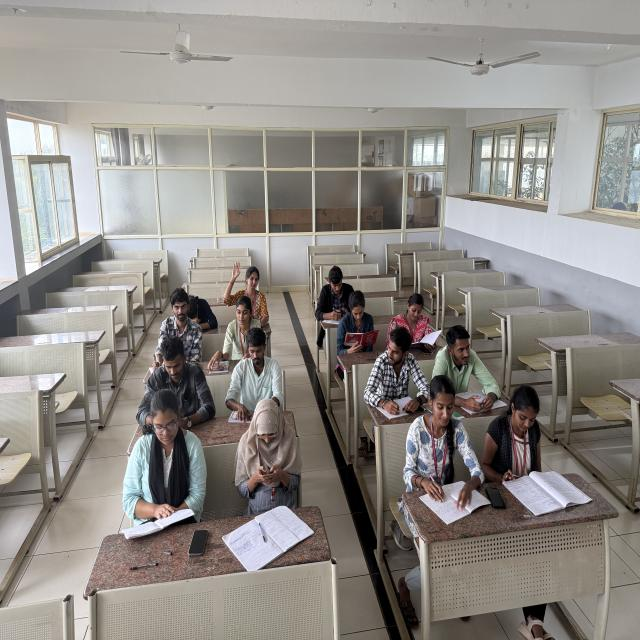Hand Rising: (222, 258, 270, 322)
Reading: (482, 379, 558, 494), (390, 291, 448, 356), (334, 287, 382, 359)
Sleeping: (178, 289, 223, 338)
Using Phone: (132, 334, 214, 437), (230, 396, 304, 510), (315, 264, 357, 332)
Writing: (404, 375, 486, 515), (363, 325, 431, 422), (146, 289, 202, 373)
